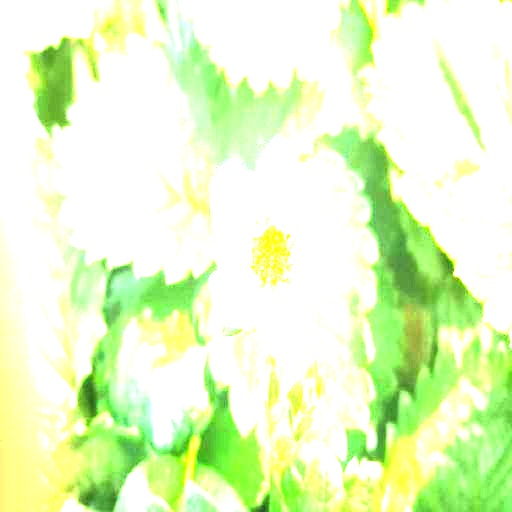Blossom Blight: (242, 207, 304, 296)
